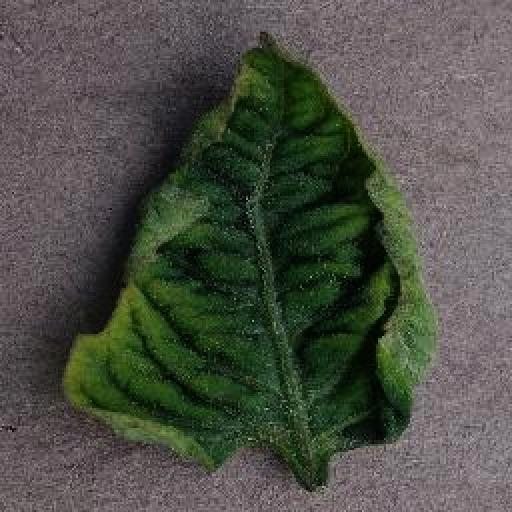disease_tomato: (58, 30, 432, 472)
